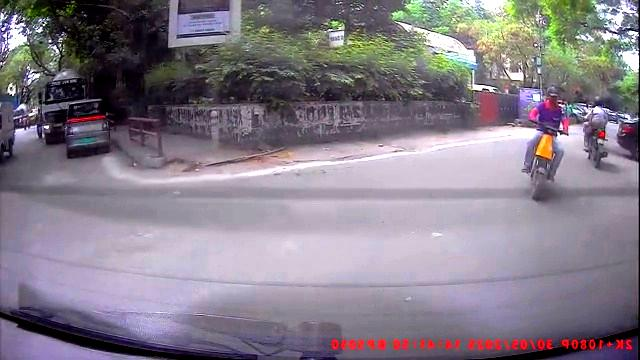motorcycle_without_helmet: (518, 85, 573, 202)
